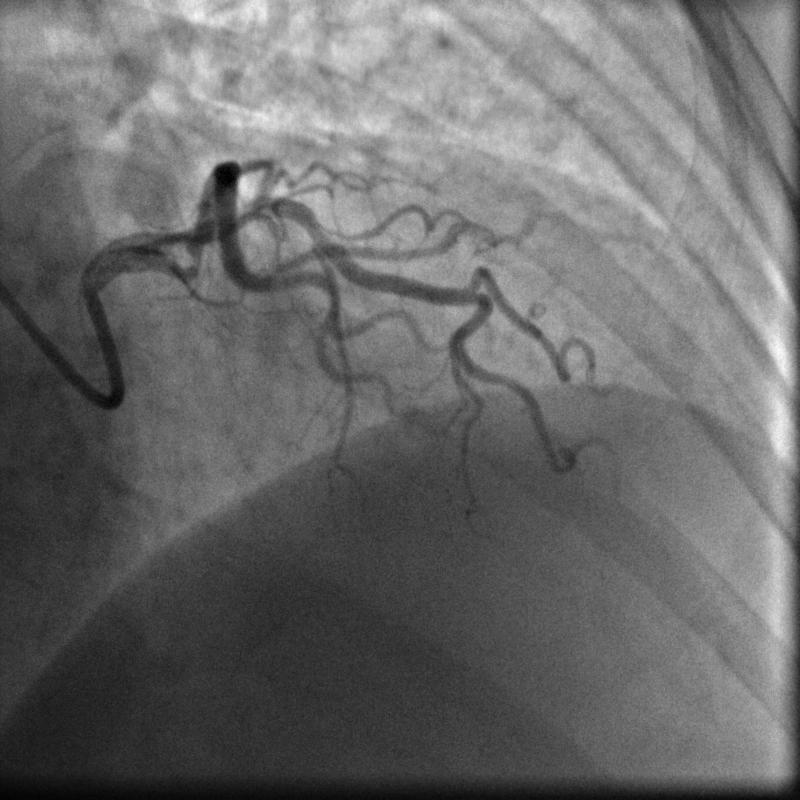Stenosis: (177, 236, 208, 283)
